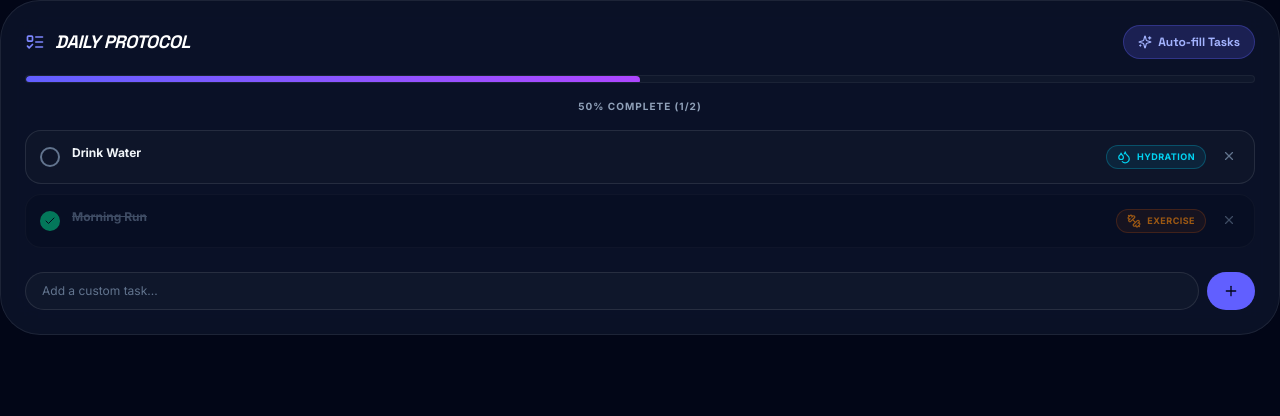
Scenario: DailyChecklist Component › allows adding a new task
This screenshot has width=1280, height=416.
Check: the text "Drink Water" is shown, box [72,145,141,160]
Type "Meditate" into the field with placeholder "Add a custom task..." at (612,291), box [25,272,1199,310]
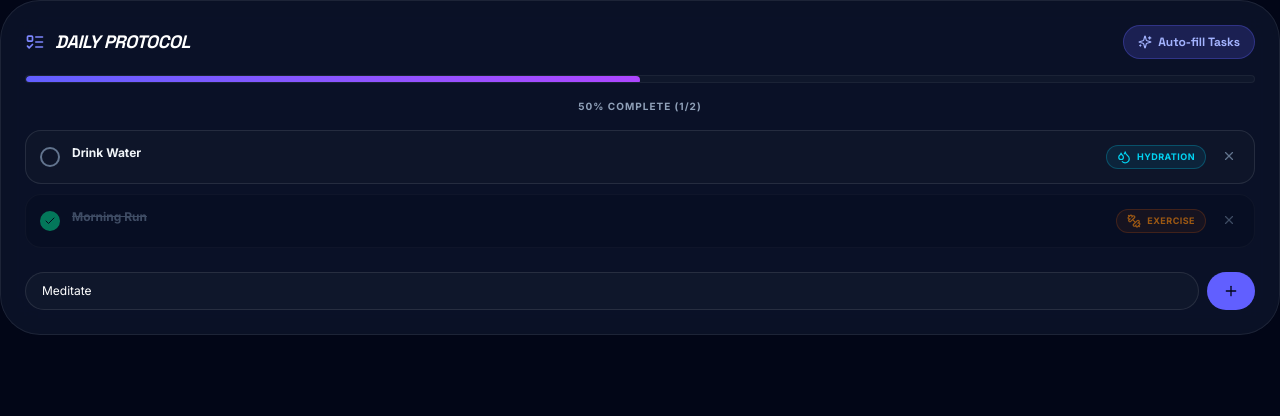
Click the 4th button at (1231,291), box [1207,272,1255,310]
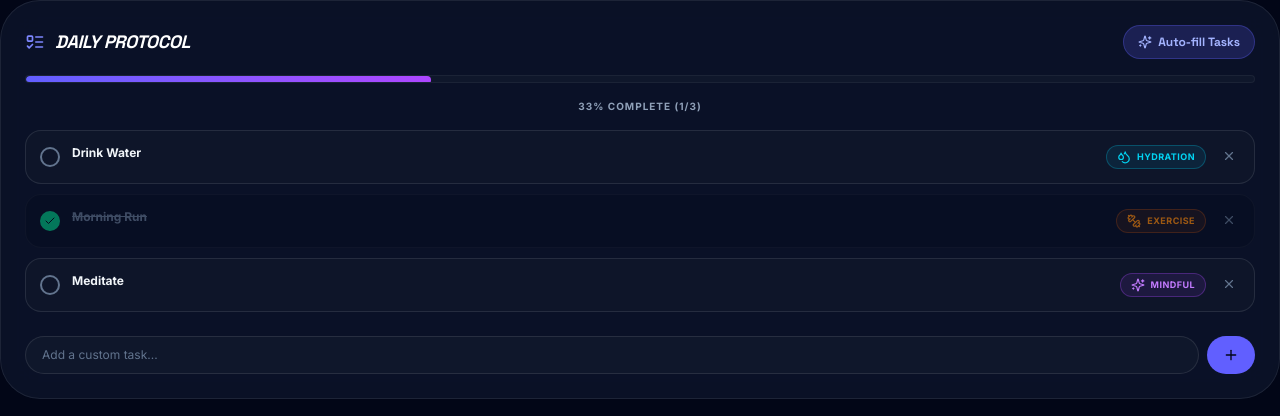
Check: the text "Meditate" is shown, box [72,273,124,288]
